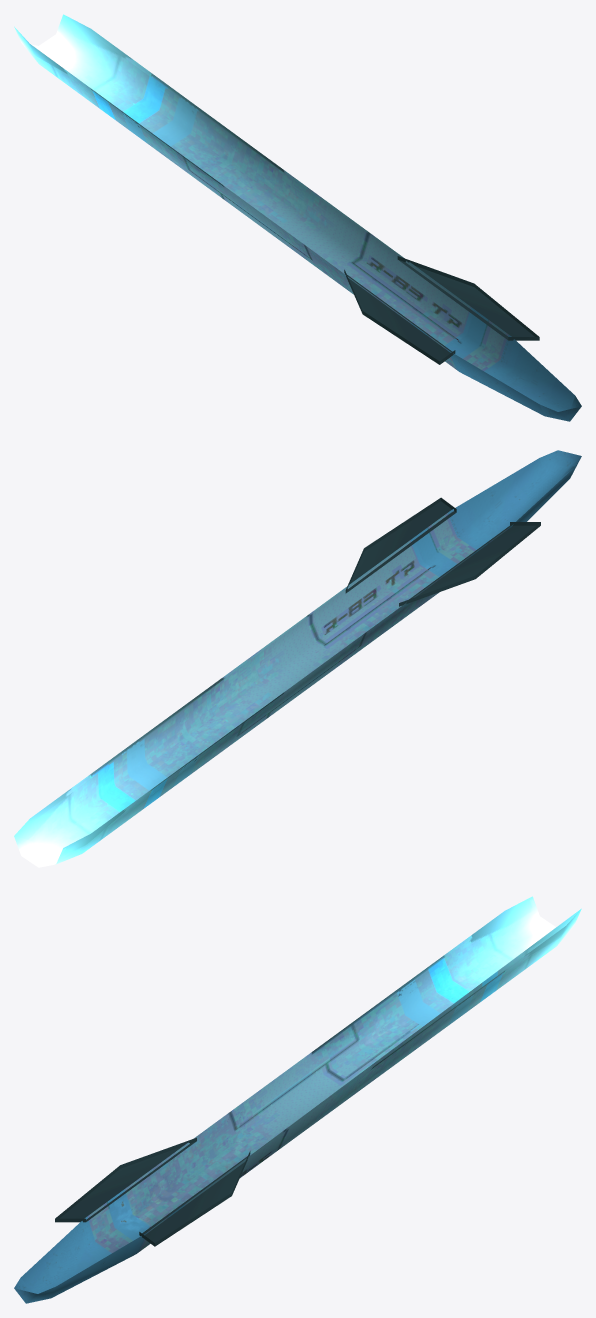
The model's file is Rocket2.fbx.
3 views of the same model, one above another, from view 1: azimuth 30°, elevation 25°; view 2: azimuth 150°, elevation 25°; view 3: azimuth 330°, elevation 25° (orthographic).
Parts seen in each view (by area): view 1: Rocket2; view 2: Rocket2; view 3: Rocket2.
Boxes of the visible parts, bbox=[...] form: Rocket2: bbox=[14, 14, 581, 421]; Rocket2: bbox=[14, 450, 581, 867]; Rocket2: bbox=[14, 896, 581, 1303].
Bounding box in the file's own units: 6.64 × 1.93 × 54.75.
1 material, 1 textured.
